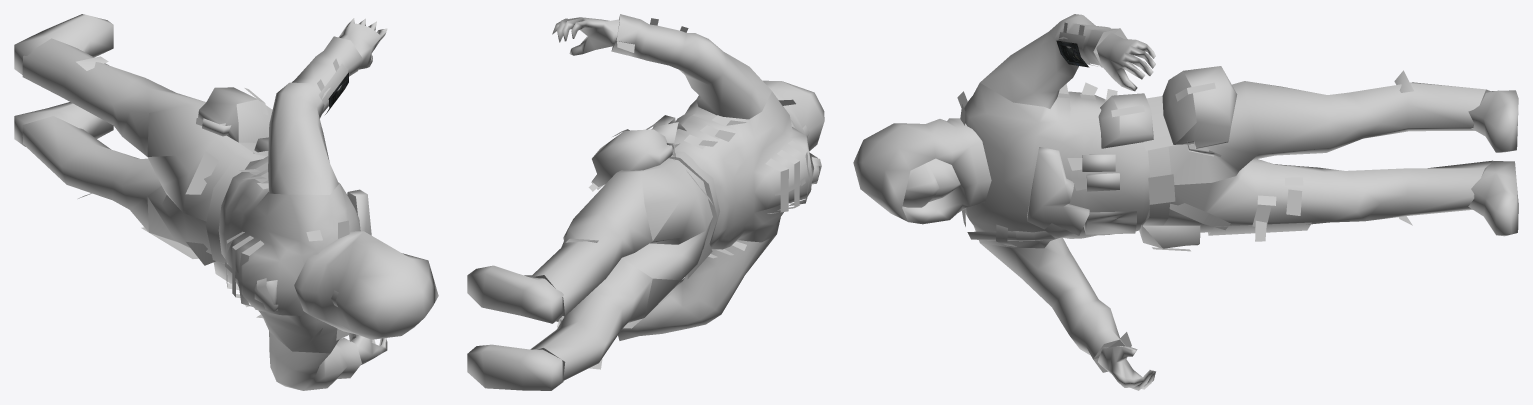
File: c_mul_mp_pmc_sniper_fb_LOD2.obj
3 renders of one model, left to right at view 1: azimuth 30°, elevation 25°; view 2: azimuth 150°, elevation 25°; view 3: azimuth 270°, elevation 25°, orthographic. The views are drawn at different scales.
Parts seen in each view (by area): view 1: mtl_c_mul_mp_pmc_snip_gear, mtl_c_mul_mp_pmc_lbr_2_1, mtl_c_mul_mp_pmc_upperbody2, mtl_c_mul_mp_pmc_gear_main_1, mtl_c_mul_mp_pmc_gloves2; view 2: mtl_c_mul_mp_pmc_lbr_2_1, mtl_c_mul_mp_pmc_snip_gear, mtl_c_mul_mp_pmc_upperbody2, mtl_c_mul_mp_pmc_gear_main_1, mtl_c_mul_mp_pmc_gloves2; view 3: mtl_c_mul_mp_pmc_snip_gear, mtl_c_mul_mp_pmc_lbr_2_1, mtl_c_mul_mp_pmc_upperbody2, mtl_c_mul_mp_pmc_gear_main_1, mtl_c_mul_mp_pmc_gloves2.
Boxes of the visible parts, x1,y1,x2,y2 form: mtl_c_mul_mp_pmc_snip_gear: (196,36,438,390); mtl_c_mul_mp_pmc_lbr_2_1: (22,38,248,265); mtl_c_mul_mp_pmc_upperbody2: (218,156,360,353); mtl_c_mul_mp_pmc_gear_main_1: (14,14,355,341); mtl_c_mul_mp_pmc_gloves2: (338,18,387,364); mtl_c_mul_mp_pmc_lbr_2_1: (530,158,712,380); mtl_c_mul_mp_pmc_snip_gear: (588,14,824,340); mtl_c_mul_mp_pmc_upperbody2: (674,91,812,258); mtl_c_mul_mp_pmc_gear_main_1: (467,153,821,390); mtl_c_mul_mp_pmc_gloves2: (552,17,619,327); mtl_c_mul_mp_pmc_snip_gear: (853,14,1237,372); mtl_c_mul_mp_pmc_lbr_2_1: (1163,70,1492,241); mtl_c_mul_mp_pmc_upperbody2: (957,82,1149,248); mtl_c_mul_mp_pmc_gear_main_1: (967,90,1518,246); mtl_c_mul_mp_pmc_gloves2: (1096,32,1155,390).
Size of the model in its own units: 67.81 by 106 by 185.
